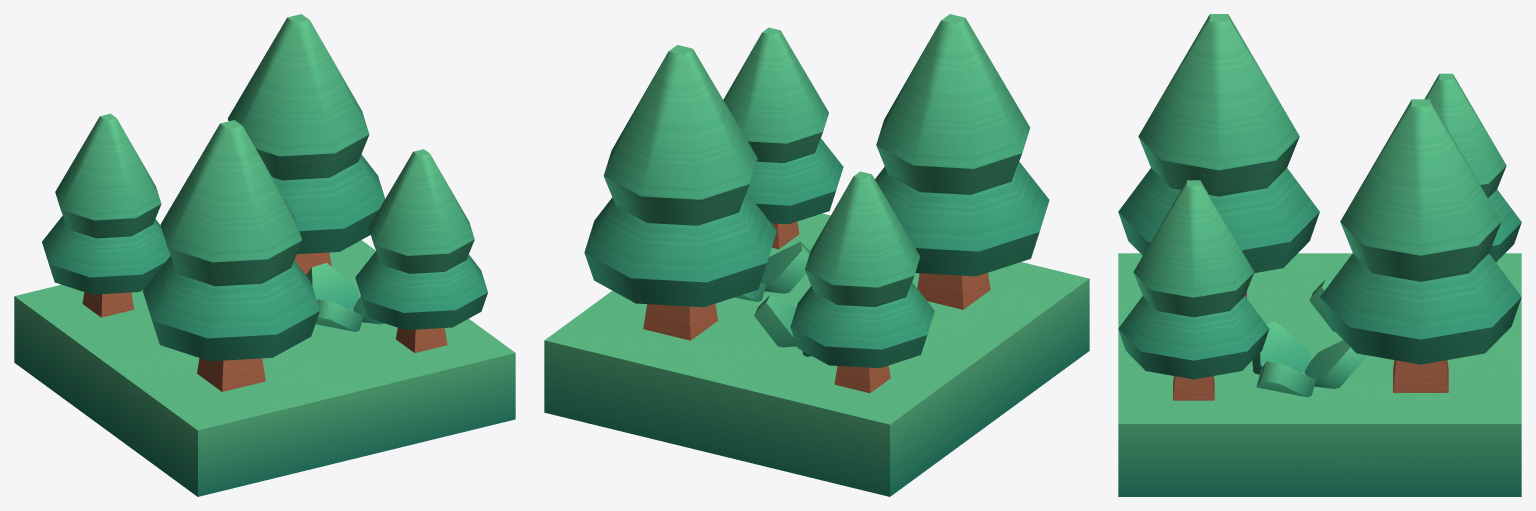
Rendered from tower-defense-kit--tile-tree-quad.glb.
3 views of the same model, side by side, from view 1: azimuth 30°, elevation 25°; view 2: azimuth 150°, elevation 25°; view 3: azimuth 270°, elevation 25° (orthographic). The views are drawn at different scales.
Parts seen in each view (by area): view 1: tile-tree-quad; view 2: tile-tree-quad; view 3: tile-tree-quad.
Part boxes in pixels (x1=…): tile-tree-quad: x1=14, y1=14, x2=515, y2=496; tile-tree-quad: x1=544, y1=14, x2=1089, y2=496; tile-tree-quad: x1=1118, y1=14, x2=1521, y2=496.
Size of the model in its own units: 1 by 0.96 by 1.
Materials: 1 (1 with a texture image).
